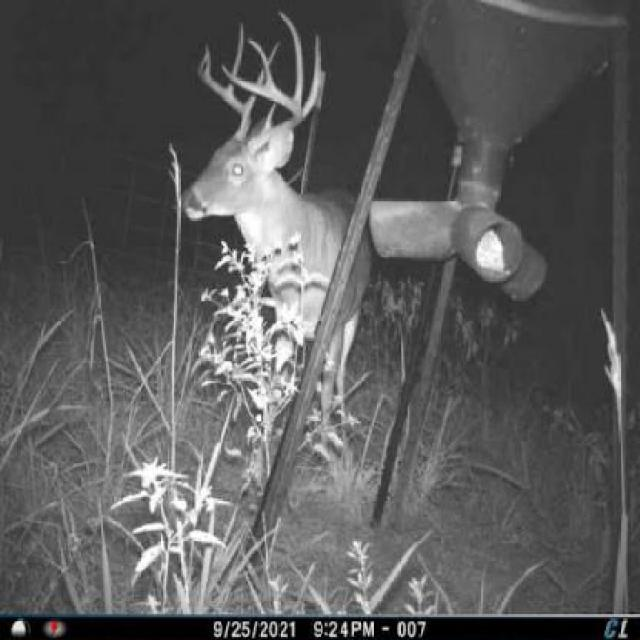Deer: (175, 2, 374, 480)
